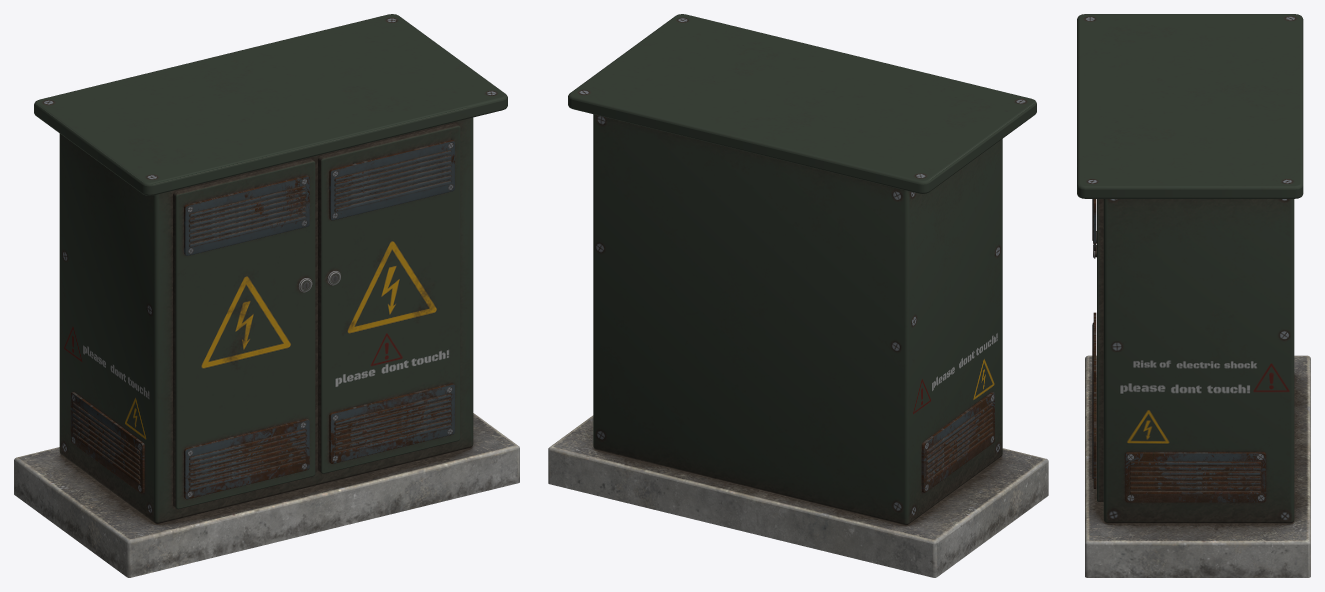
File: box-electronic_-_20mb.glb
The picture shows the model from 3 angles, left to right: view 1: azimuth 30°, elevation 25°; view 2: azimuth 150°, elevation 25°; view 3: azimuth 270°, elevation 25°; orthographic projection. The views are drawn at different scales.
Visible parts, largest first — view 1: 02_02_0, 01_01_0; view 2: 02_02_0, 01_01_0; view 3: 02_02_0, 01_01_0.
Part boxes in pixels (<box>): 02_02_0: <box>14,14,519,577</box>; 01_01_0: <box>70,140,454,499</box>; 02_02_0: <box>548,14,1048,577</box>; 01_01_0: <box>921,392,994,492</box>; 02_02_0: <box>1077,14,1310,577</box>; 01_01_0: <box>1092,199,1265,502</box>.
Size of the model in its own units: 2.09 by 2 by 1.1.
Materials: 2 (2 with a texture image).
